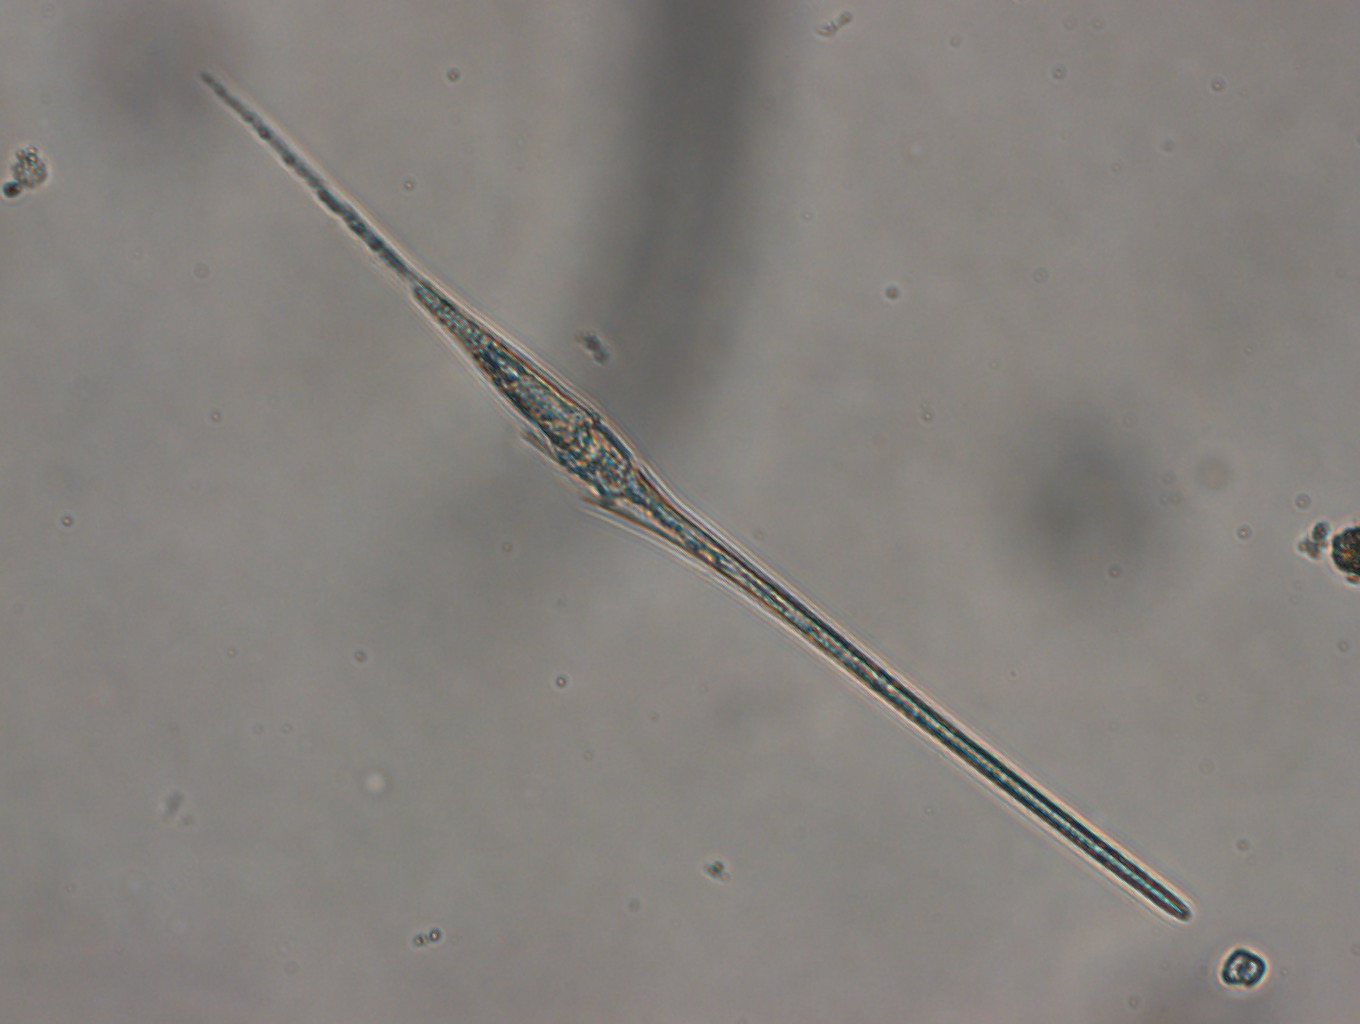ceratium fusus: (405, 270, 1194, 920)
